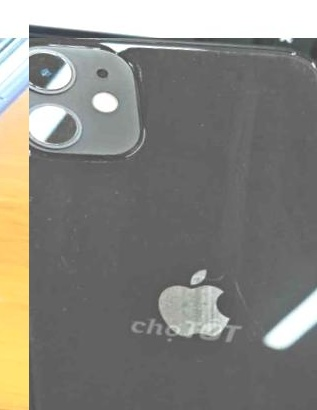scratch: (134, 254, 291, 366), (156, 38, 317, 116), (29, 177, 86, 283)
